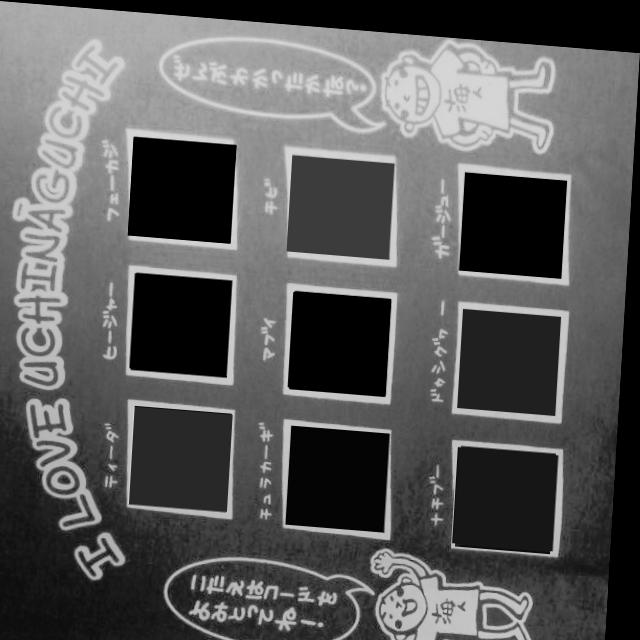qr_code: (131, 133, 238, 239), (462, 163, 569, 268), (289, 149, 397, 252), (292, 419, 395, 525), (460, 437, 563, 541), (134, 403, 238, 506), (462, 300, 564, 405), (293, 285, 395, 388), (134, 270, 236, 372)
